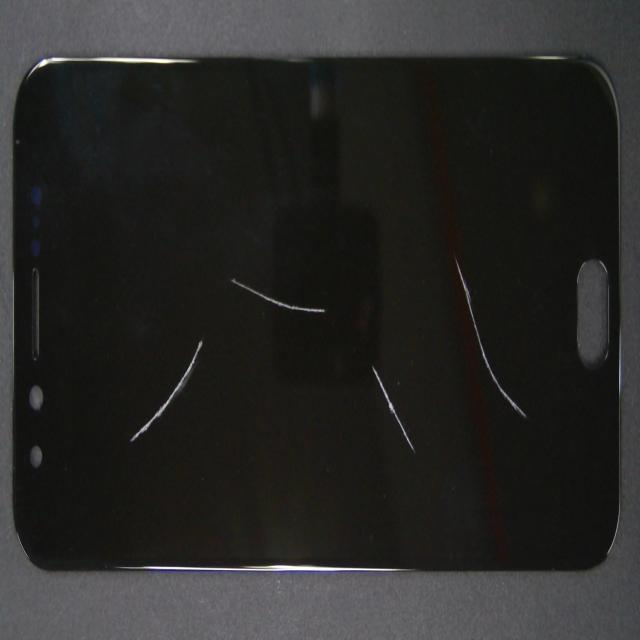scratch: (446, 232, 534, 433), (127, 319, 207, 451), (222, 254, 331, 331), (361, 356, 419, 458)
